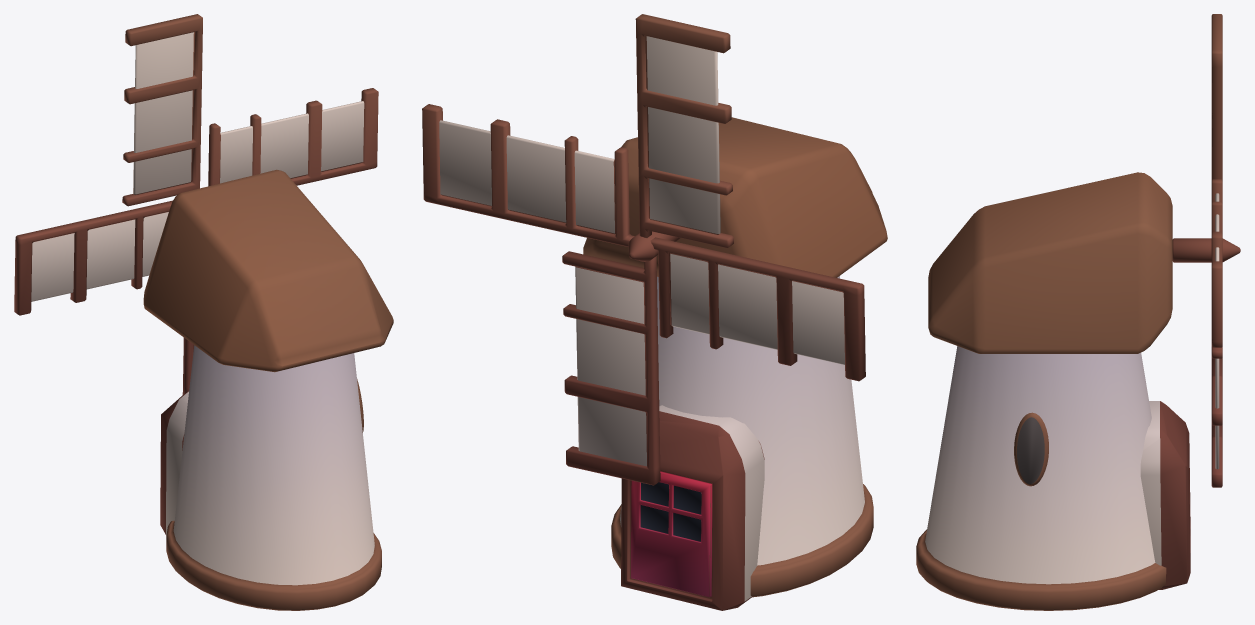
The model's file is mill.fbx.
3 views of the same model, side by side, from view 1: azimuth 30°, elevation 25°; view 2: azimuth 150°, elevation 25°; view 3: azimuth 270°, elevation 25° (orthographic). The views are drawn at different scales.
Parts seen in each view (by area): view 1: TowerBase, TowerTop, Wings, Enterence; view 2: Wings, TowerBase, Enterence, TowerTop; view 3: TowerBase, TowerTop, Enterence, Wings.
Boxes of the visible parts, bbox=[...] form: TowerBase: bbox=[166, 345, 381, 610]; TowerTop: bbox=[143, 169, 393, 372]; Wings: bbox=[14, 14, 378, 394]; Enterence: bbox=[160, 391, 188, 535]; Wings: bbox=[422, 14, 865, 485]; TowerBase: bbox=[611, 276, 873, 597]; Enterence: bbox=[621, 405, 764, 610]; TowerTop: bbox=[583, 117, 887, 277]; TowerBase: bbox=[916, 346, 1166, 610]; TowerTop: bbox=[928, 172, 1172, 353]; Enterence: bbox=[1140, 401, 1190, 589]; Wings: bbox=[1172, 14, 1240, 487].
Size of the model in its own units: 618 by 808 by 454.
